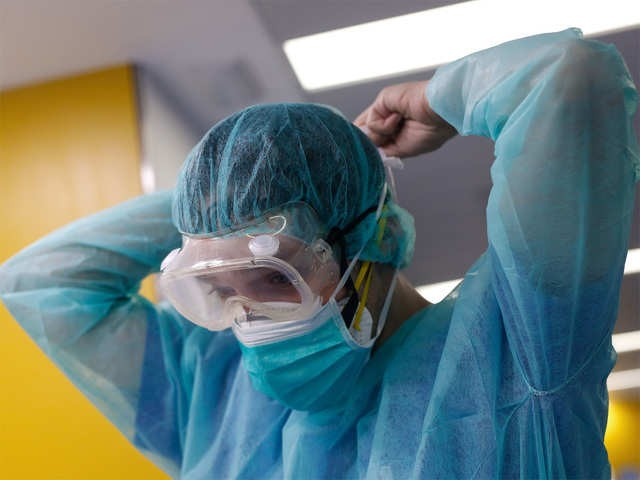Goggles: (157, 228, 337, 340)
with_mask: (206, 266, 377, 423)
